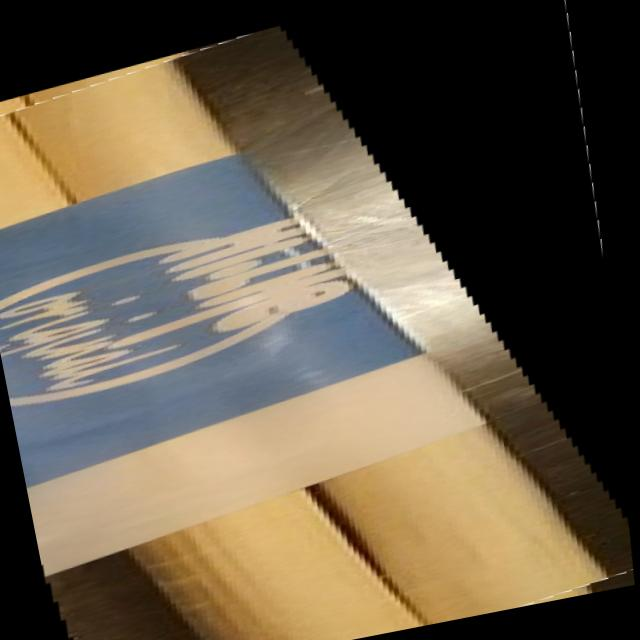others: (0, 20, 640, 640)
